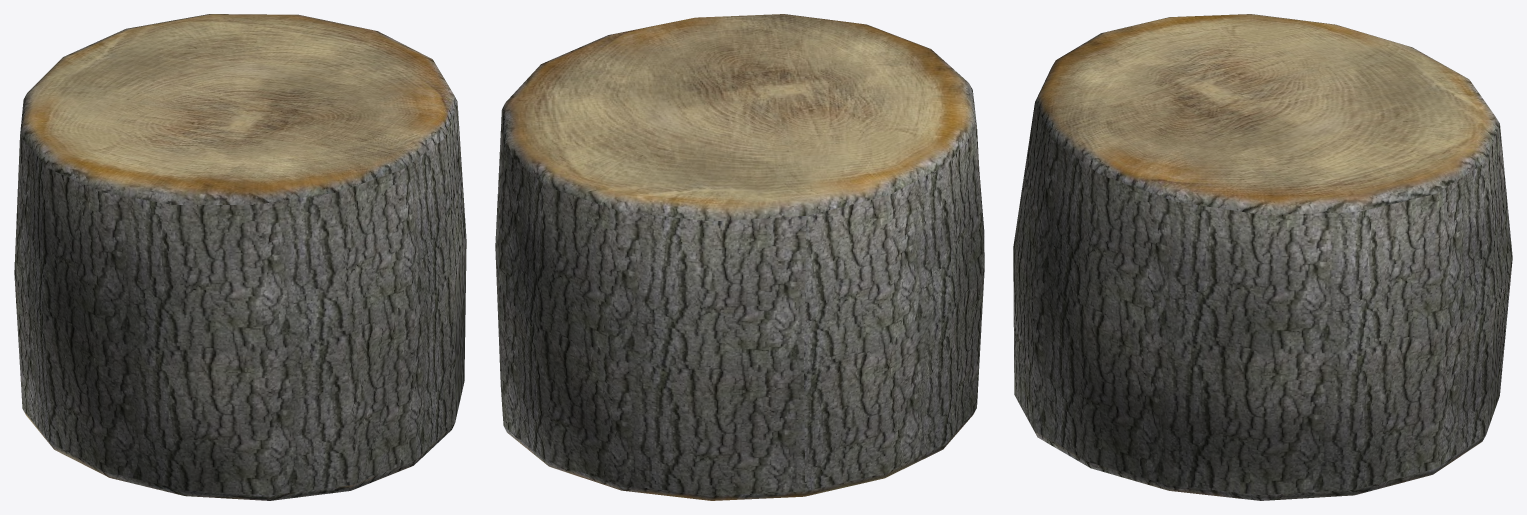
File: trunk_2.glb
The picture shows the model from 3 angles, left to right: view 1: azimuth 30°, elevation 25°; view 2: azimuth 150°, elevation 25°; view 3: azimuth 270°, elevation 25°; orthographic projection.
Visible parts, largest first — view 1: trunk_2; view 2: trunk_2; view 3: trunk_2.
Part boxes in pixels (<box>): trunk_2: <box>14,14,466,500</box>; trunk_2: <box>495,14,984,500</box>; trunk_2: <box>1013,14,1512,500</box>.
Size of the model in its own units: 0.6891 by 0.5011 by 0.7234.
Materials: 1 (1 with a texture image).
